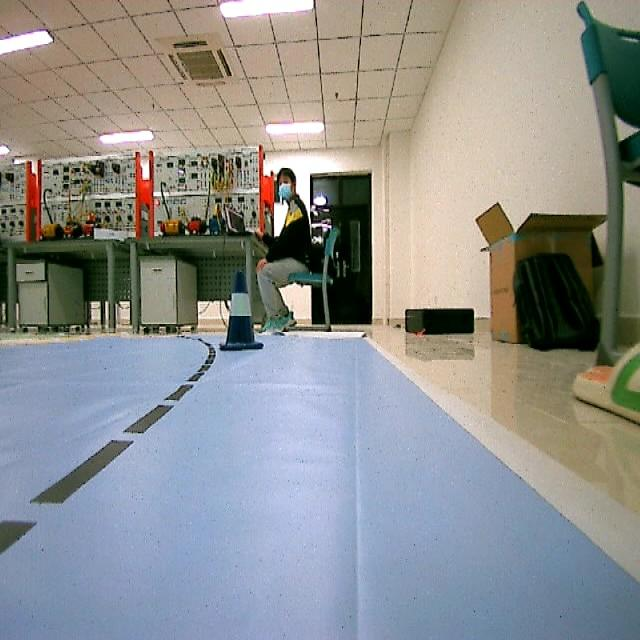obstacle: (221, 268, 263, 355)
